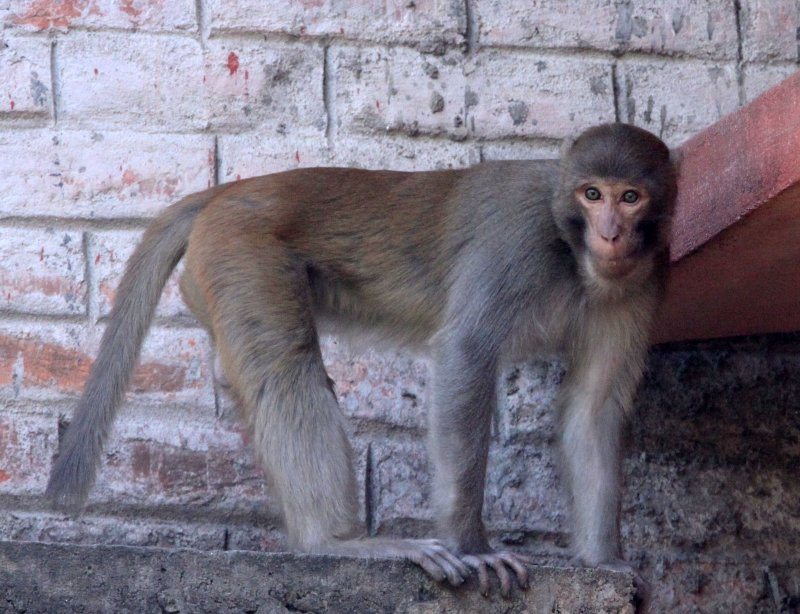monkey: (35, 116, 700, 592)
